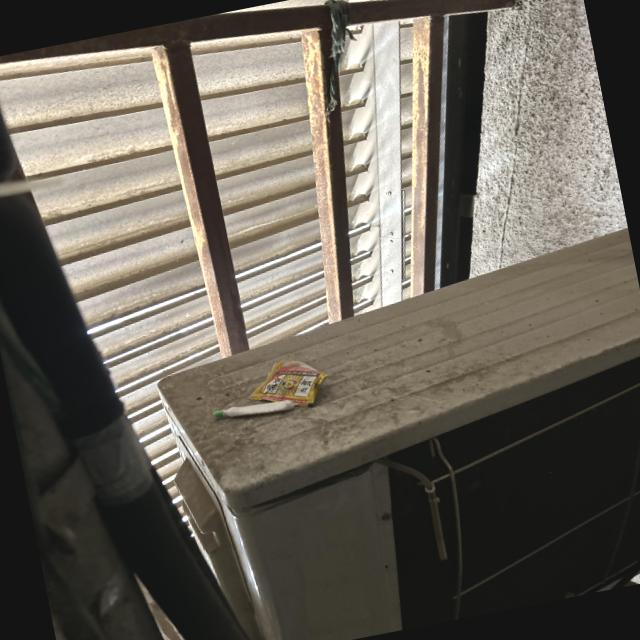mess: (135, 251, 640, 478)
